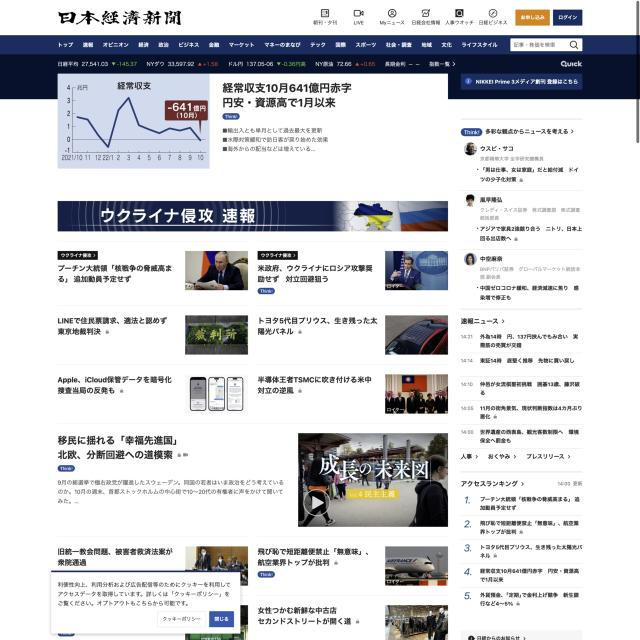input: (510, 38, 583, 51)
logo: (55, 6, 183, 30)
navigation: (55, 38, 502, 52)
